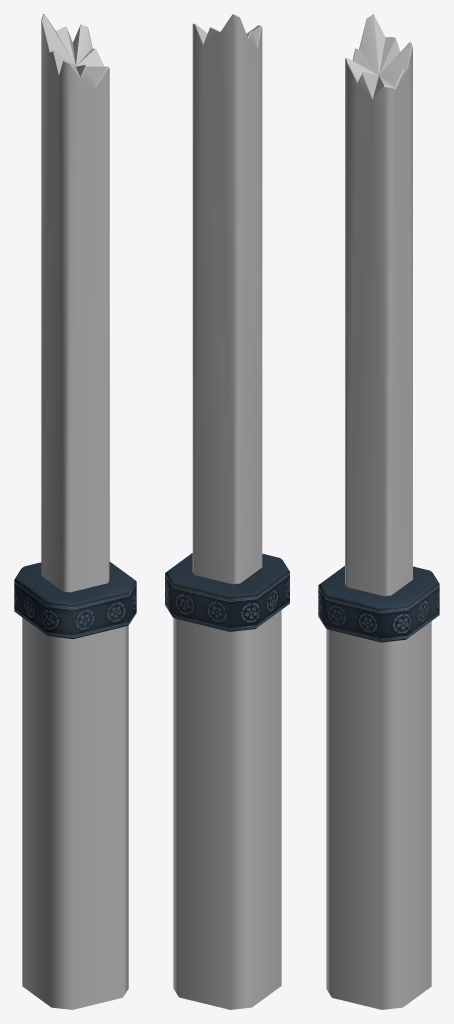
File: SM_Lamp_post_broken_LOD0.fbx
3 views of the same model, side by side, from view 1: azimuth 30°, elevation 25°; view 2: azimuth 150°, elevation 25°; view 3: azimuth 330°, elevation 25° (orthographic). The views are drawn at different scales.
Visible parts, largest first — view 1: SM_Lamp_post_broken_LOD0_LOD0; view 2: SM_Lamp_post_broken_LOD0_LOD0; view 3: SM_Lamp_post_broken_LOD0_LOD0.
Part boxes in pixels (x1,y1,x2,y2): SM_Lamp_post_broken_LOD0_LOD0: (14,14,136,1009); SM_Lamp_post_broken_LOD0_LOD0: (165,14,289,1009); SM_Lamp_post_broken_LOD0_LOD0: (318,14,439,1009).
Size of the model in its own units: 27.82 by 27.82 by 286.
